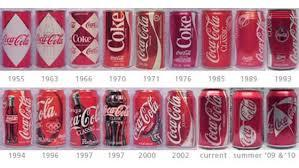Aluminum can: (162, 84, 196, 150), (33, 9, 68, 70), (2, 6, 35, 70), (32, 87, 66, 149), (130, 83, 162, 147), (202, 8, 234, 71), (69, 5, 100, 70), (198, 82, 228, 148), (136, 10, 168, 71), (233, 86, 263, 148), (0, 86, 31, 146), (68, 87, 98, 148), (170, 9, 200, 70), (102, 10, 134, 67), (236, 11, 266, 70), (266, 87, 294, 150), (270, 6, 297, 70), (102, 87, 128, 149)
